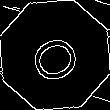O_NE: (23, 25, 87, 85)
